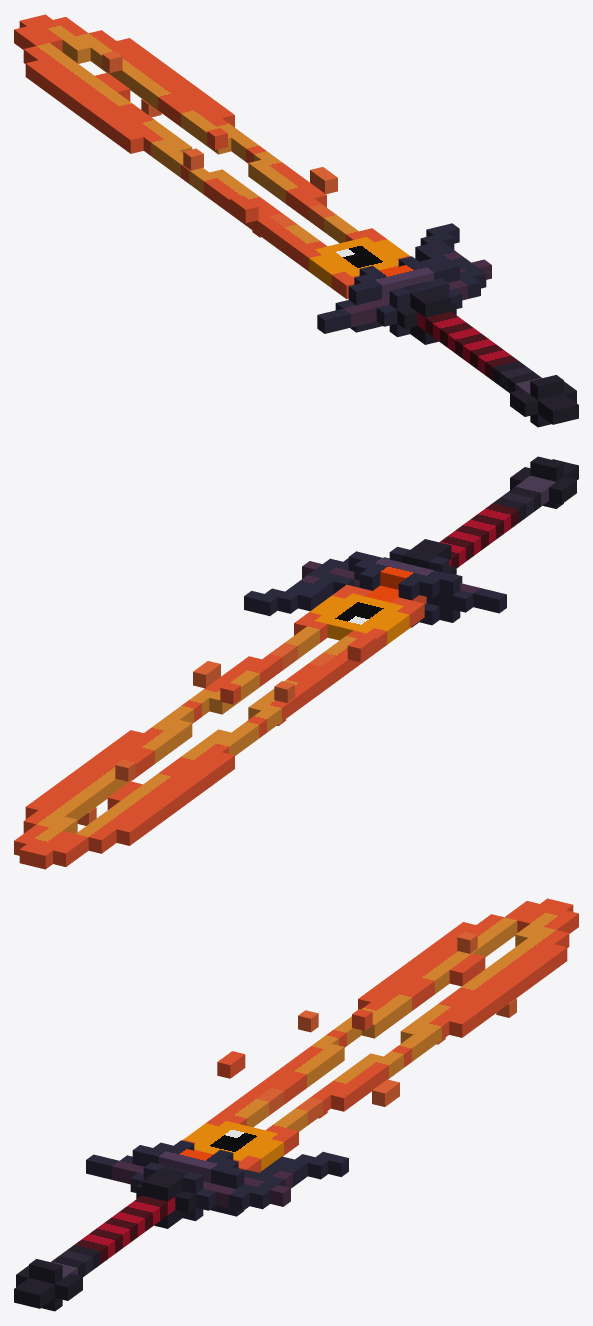
File: hell-sword.gltf
The picture shows the model from 3 angles, top to bottom: view 1: azimuth 30°, elevation 25°; view 2: azimuth 150°, elevation 25°; view 3: azimuth 330°, elevation 25°; orthographic projection.
Visible parts, largest first — view 1: blade-Local, Handle-Local, Equip_Right_Hand-Local; view 2: blade-Local, Handle-Local, Equip_Right_Hand-Local; view 3: blade-Local, Handle-Local, Equip_Right_Hand-Local.
Part boxes in pixels (x1,y1,x2,y2): blade-Local: (14, 14, 410, 299); Handle-Local: (309, 223, 491, 337); Equip_Right_Hand-Local: (397, 281, 578, 427); blade-Local: (14, 584, 426, 869); Handle-Local: (244, 546, 506, 644); Equip_Right_Hand-Local: (402, 456, 578, 574); blade-Local: (182, 898, 578, 1172); Handle-Local: (86, 1121, 348, 1221); Equip_Right_Hand-Local: (14, 1166, 195, 1311).
Bounding box in the file's own units: 15 × 5 × 70.98.
Materials: 3 (3 with a texture image).
